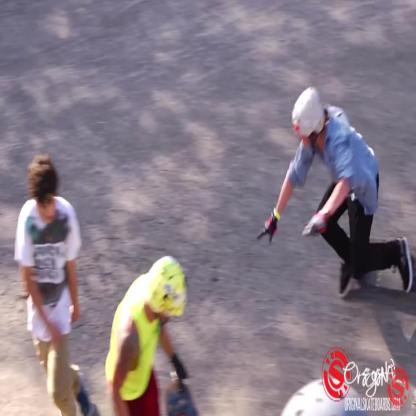Fall_Down: (255, 85, 414, 299)
